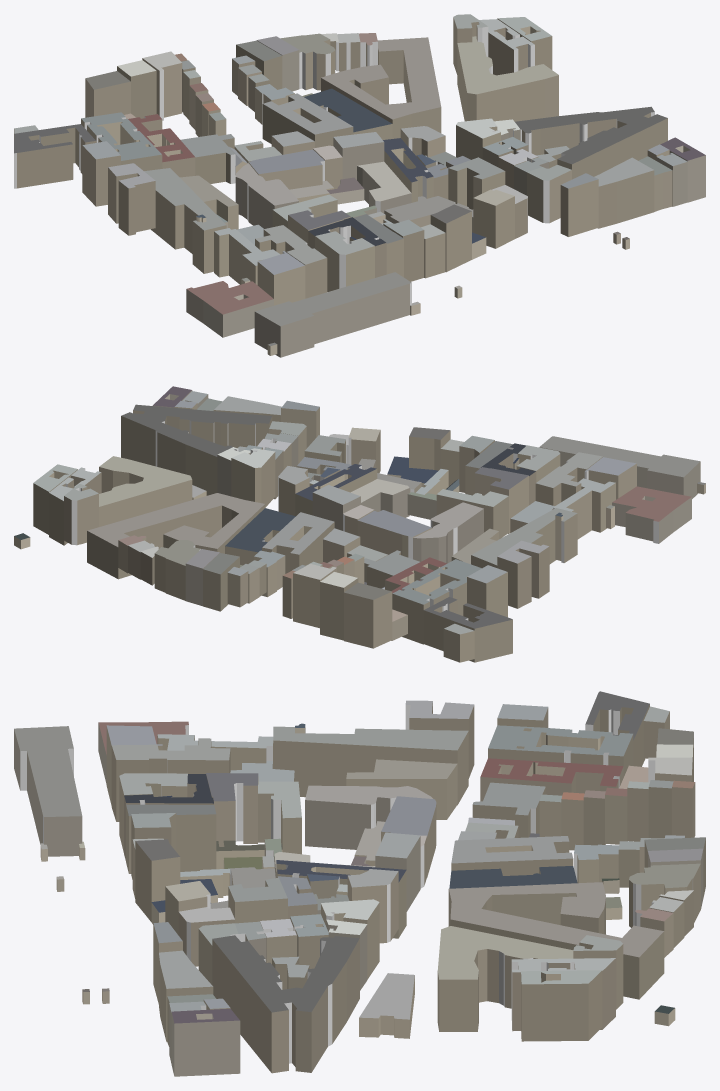
3 views of the same model, one above another, from view 1: azimuth 30°, elevation 25°; view 2: azimuth 150°, elevation 25°; view 3: azimuth 270°, elevation 25° (orthographic). The views are drawn at different scales.
Visible parts, largest first — view 1: tuile; view 2: tuile; view 3: tuile.
Part boxes in pixels (x1=…): tuile: x1=14, y1=14, x2=705, y2=357; tuile: x1=14, y1=386, x2=705, y2=662; tuile: x1=14, y1=691, x2=705, y2=1076.
Size of the model in its own units: 272 by 38.02 by 245.
